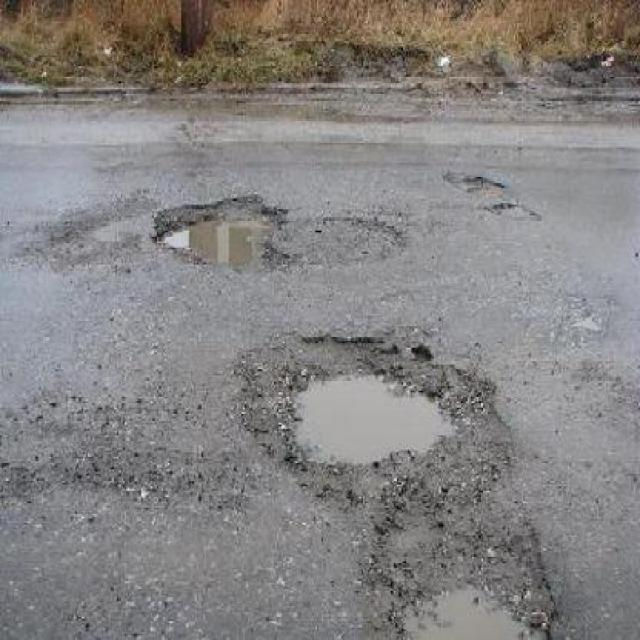Pothole: (233, 324, 522, 514), (354, 520, 561, 638), (148, 189, 290, 275), (443, 169, 507, 197), (483, 198, 538, 222)
